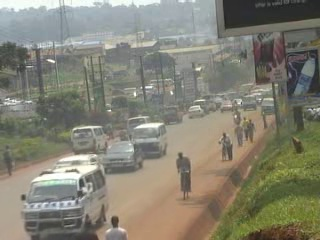Car: (45, 151, 107, 184), (102, 137, 145, 174), (183, 100, 203, 122), (219, 100, 234, 114), (232, 96, 244, 110), (206, 99, 217, 113)
Motorcycle: (231, 109, 243, 129), (118, 125, 130, 142)
